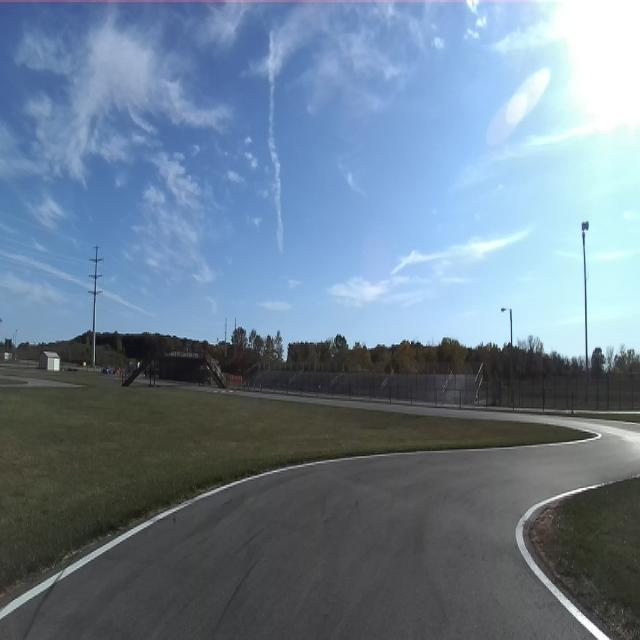white-line: (0, 433, 602, 621), (515, 484, 610, 639)
